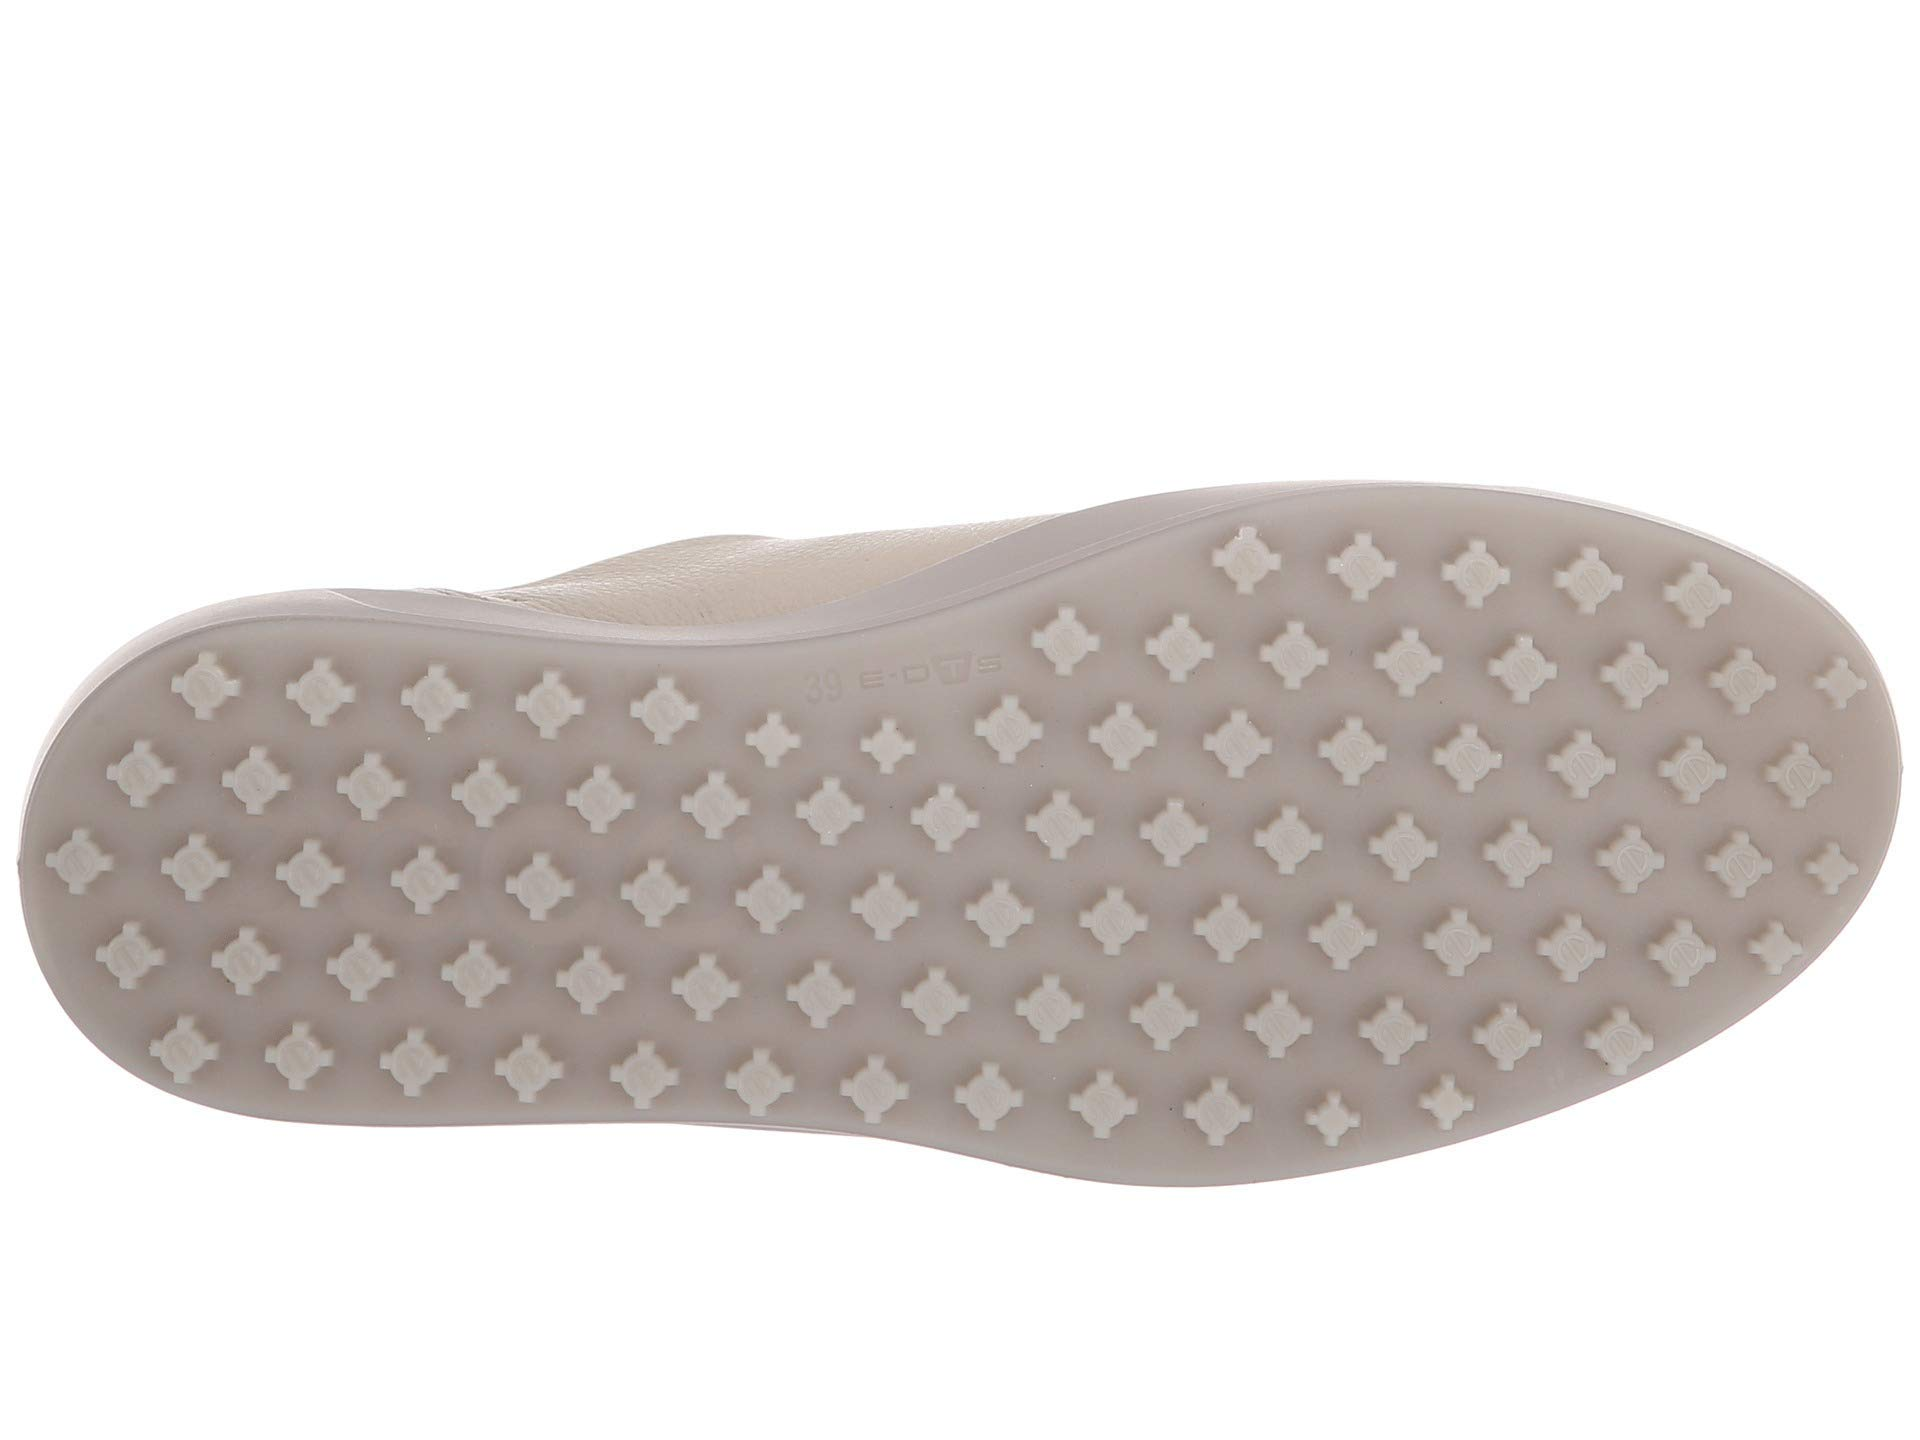star: (1054, 687, 1445, 1051)
